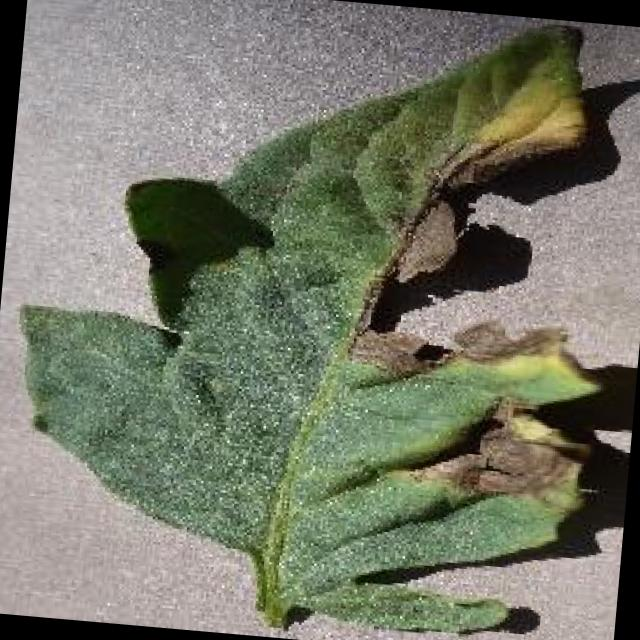Tomato_Early_Blight: (338, 32, 640, 514)
